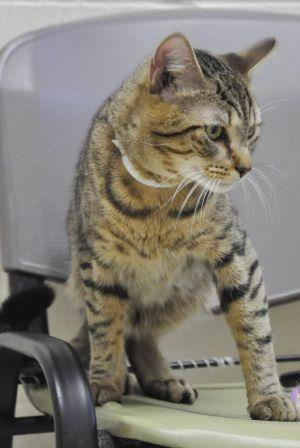bengal: (113, 20, 300, 207)
